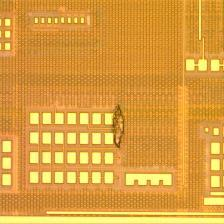PARTICLE: (108, 99, 130, 151)
